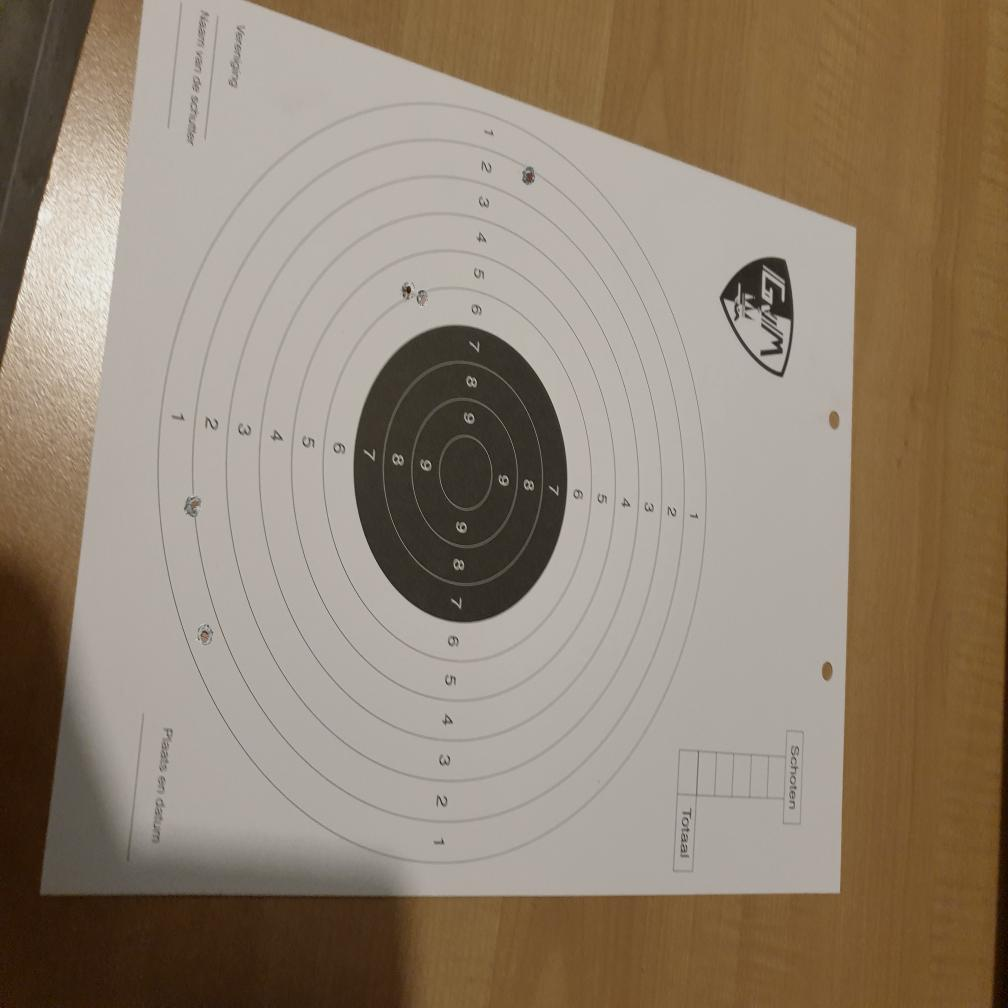1: (194, 622, 214, 648)
2: (184, 494, 202, 519), (521, 163, 536, 187)
6: (400, 281, 416, 303), (417, 289, 429, 309)
Target: (158, 96, 708, 867)
black_contour: (353, 324, 567, 625)
